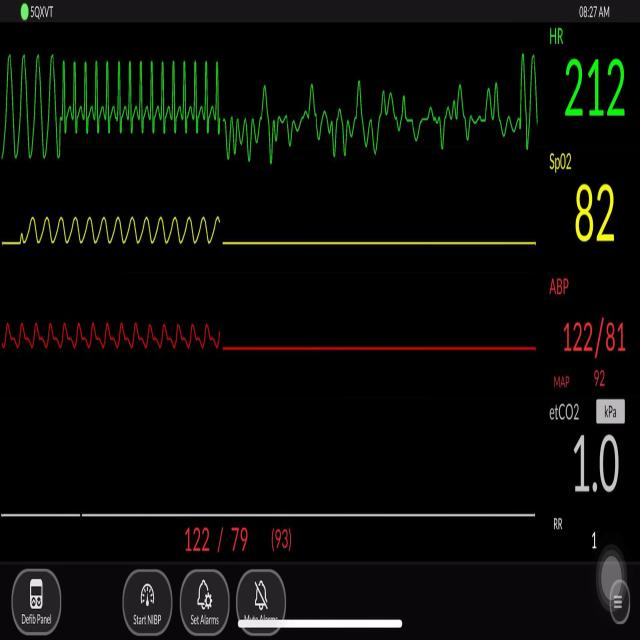danger: (59, 51, 224, 142), (3, 52, 55, 166)
